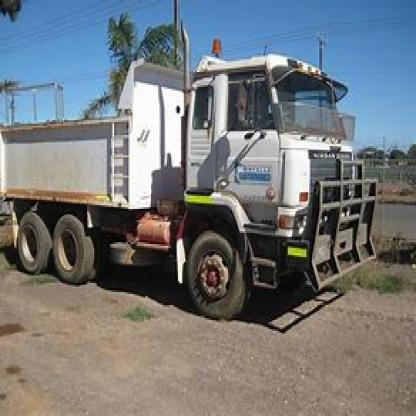dump_truck: (3, 42, 382, 336)
